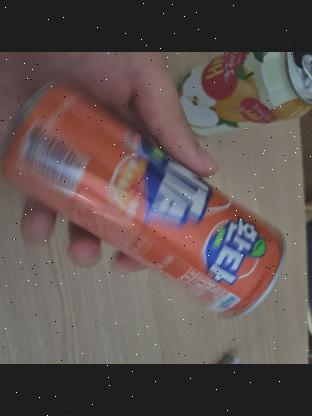Can: (0, 85, 281, 324)
